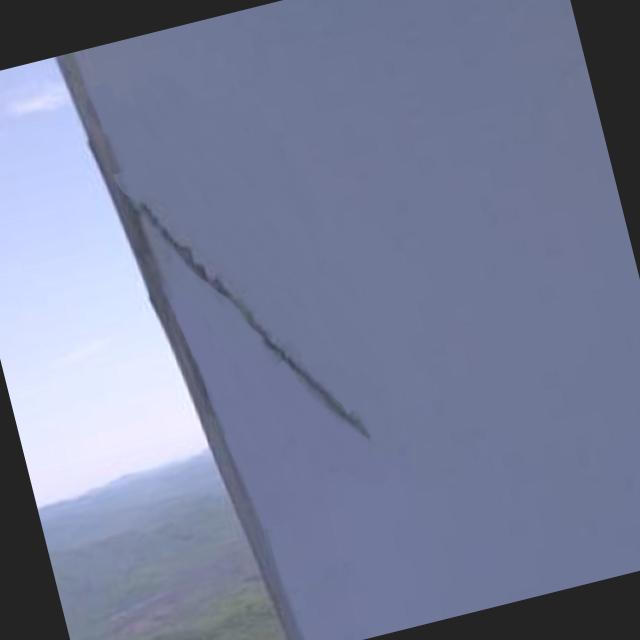crack: (140, 170, 362, 477)
